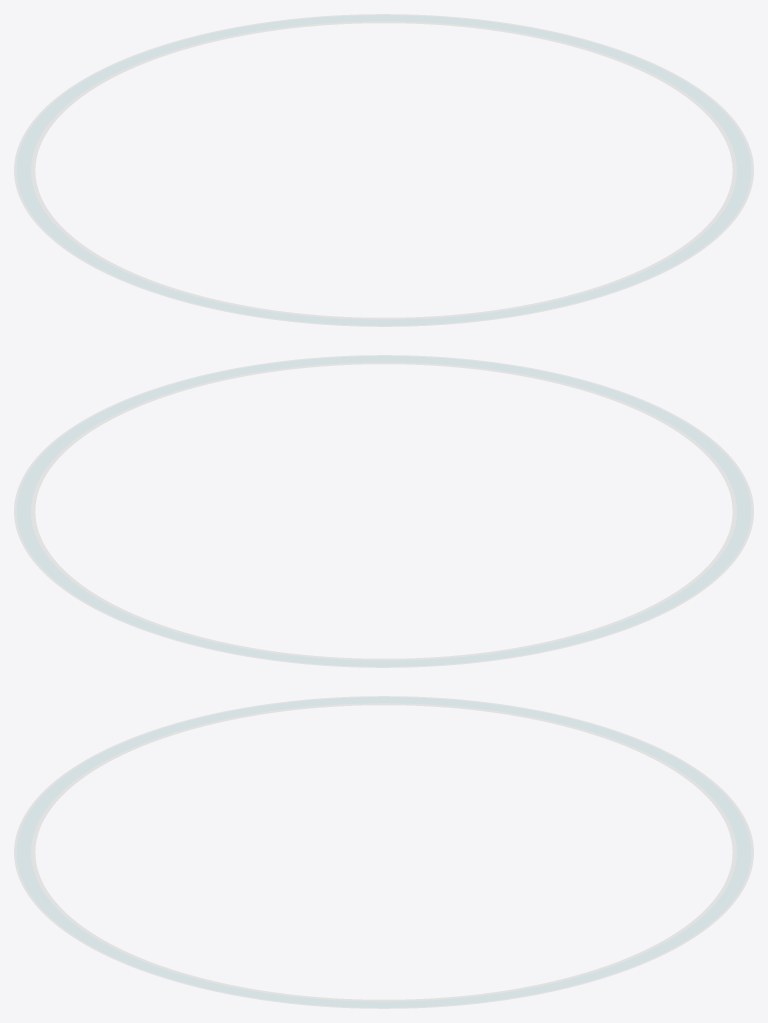
Rendered from Foam-Ring.fbx.
3 renders of one model, top to bottom at view 1: azimuth 30°, elevation 25°; view 2: azimuth 150°, elevation 25°; view 3: azimuth 270°, elevation 25°, orthographic.
Visible parts, largest first — view 1: Cylinder; view 2: Cylinder; view 3: Cylinder.
Boxes of the visible parts, x1,y1,x2,y2 form: Cylinder: (14,14,753,326); Cylinder: (14,355,753,667); Cylinder: (14,696,753,1008).
Bounding box in the file's own units: 230 × 3.74e-05 × 230.
1 material, 1 textured.
